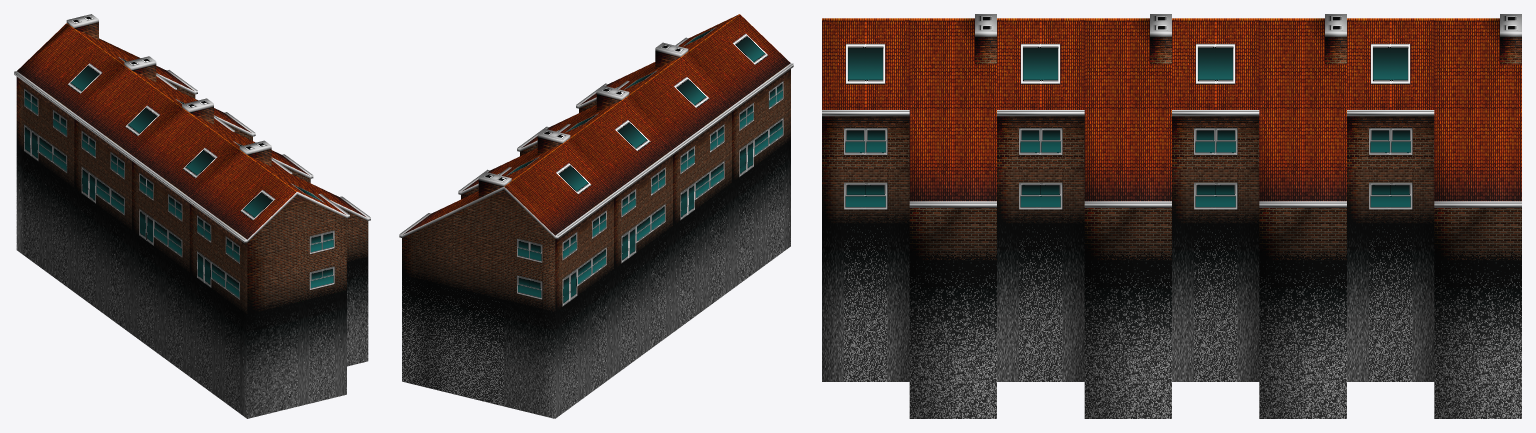
The model's file is doorzon_mod3_3a.fbx.
3 renders of one model, left to right at view 1: azimuth 30°, elevation 25°; view 2: azimuth 150°, elevation 25°; view 3: azimuth 270°, elevation 25°, orthographic. The views are drawn at different scales.
Parts seen in each view (by area): view 1: doorzon_mod3_3a; view 2: doorzon_mod3_3a; view 3: doorzon_mod3_3a.
Boxes of the visible parts, left/top/right/bottom form: doorzon_mod3_3a: left=14, top=14, right=370, bottom=418; doorzon_mod3_3a: left=399, top=14, right=793, bottom=418; doorzon_mod3_3a: left=822, top=14, right=1521, bottom=418.
Bounding box in the file's own units: 1400 × 1879 × 3600.
